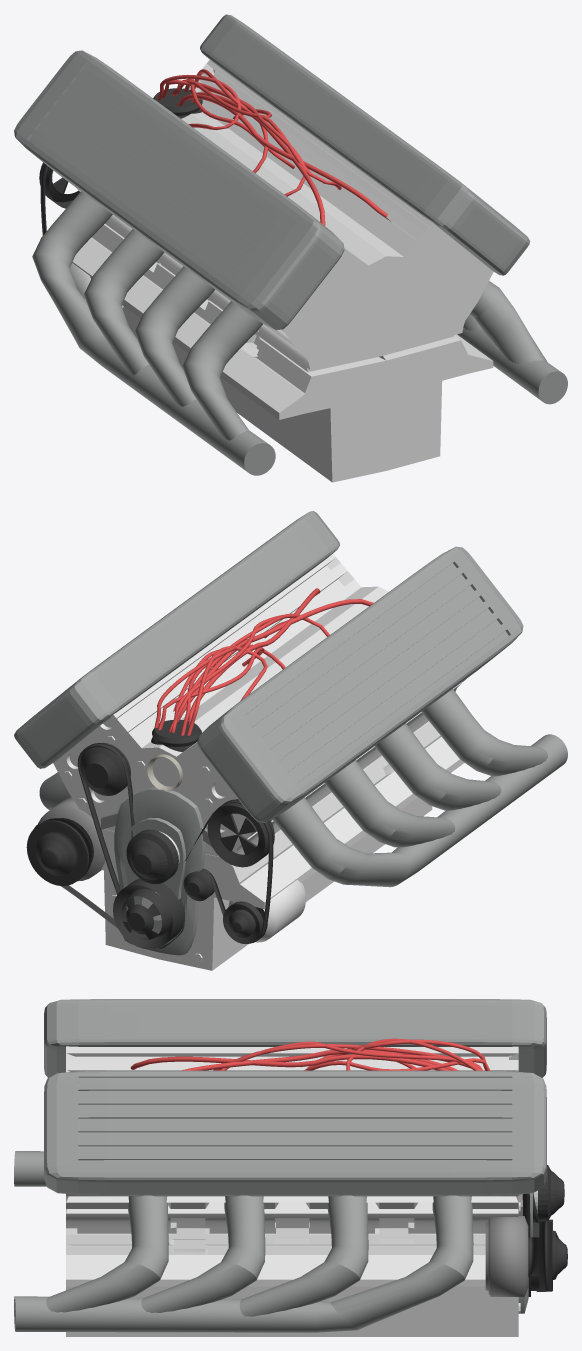
The model's file is engine.gltf.
3 views of the same model, one above another, from view 1: azimuth 30°, elevation 25°; view 2: azimuth 150°, elevation 25°; view 3: azimuth 270°, elevation 25° (orthographic). The views are drawn at different scales.
Parts seen in each view (by area): view 1: Cylinder.009, Cube.002, Cylinder.008, Cube.003, Cylinder.037, Cylinder.016, Cylinder, Cylinder.010; view 2: Cube.002, Cylinder.009, Cylinder.008, Cube.003, Cube, Cylinder.016, Cylinder.002, Cylinder.012, Cylinder, Curve.001, Cylinder.003, Cylinder.004 (+6 smaller); view 3: Cube.003, Cylinder.009, Cylinder.037, Cube.002, Cylinder.016, Cylinder.001, Cylinder.012, Cylinder.008, Cylinder.003.
Part boxes in pixels (x1,y1,x2,y2): Cylinder.009: (72, 60, 493, 482); Cube.002: (14, 50, 344, 330); Cylinder.008: (32, 191, 275, 475); Cube.003: (200, 14, 530, 275); Cylinder.037: (457, 281, 567, 404); Cylinder.016: (157, 69, 390, 225); Cylinder: (39, 162, 79, 208); Cylinder.010: (153, 88, 202, 118); Cube.002: (197, 546, 523, 822); Cylinder.009: (53, 553, 465, 970); Cylinder.008: (273, 689, 567, 887); Cube.003: (14, 511, 339, 768); Cube: (114, 787, 205, 955); Cylinder.016: (154, 588, 373, 735); Cylinder.002: (113, 878, 184, 949); Cylinder.012: (26, 818, 93, 885); Cylinder: (207, 799, 274, 867); Curve.001: (77, 743, 273, 947); Cylinder.003: (126, 829, 178, 883); Cylinder.004: (80, 743, 130, 795); Cube.003: (44, 1070, 546, 1195); Cylinder.009: (66, 1046, 518, 1336); Cylinder.037: (14, 1195, 473, 1332); Cube.002: (44, 999, 546, 1077); Cylinder.016: (130, 1038, 490, 1070); Cylinder.001: (485, 1216, 528, 1296); Cylinder.012: (528, 1221, 567, 1291); Cylinder.008: (14, 1151, 46, 1186); Cylinder.003: (538, 1165, 564, 1221).
Bounding box in the file's own units: 7.75 × 6.17 × 11.23.
